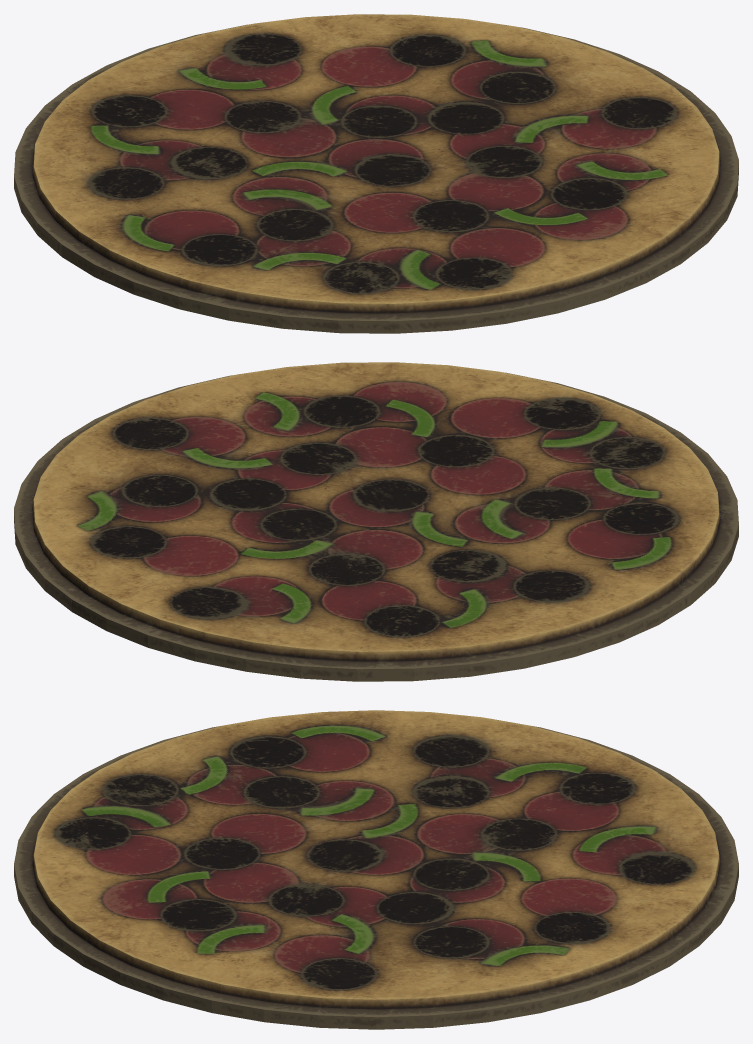
3 views of the same model, one above another, from view 1: azimuth 30°, elevation 25°; view 2: azimuth 150°, elevation 25°; view 3: azimuth 270°, elevation 25° (orthographic).
Visible parts, largest first — view 1: ENV_MOD_Wall_Pizzas_01.mo; view 2: ENV_MOD_Wall_Pizzas_01.mo; view 3: ENV_MOD_Wall_Pizzas_01.mo.
Part boxes in pixels (bbox=[...]): ENV_MOD_Wall_Pizzas_01.mo: bbox=[14, 14, 738, 333]; ENV_MOD_Wall_Pizzas_01.mo: bbox=[14, 362, 738, 681]; ENV_MOD_Wall_Pizzas_01.mo: bbox=[14, 710, 738, 1029].
Size of the model in its own units: 9252 by 303 by 9252.
1 material, 1 textured.
